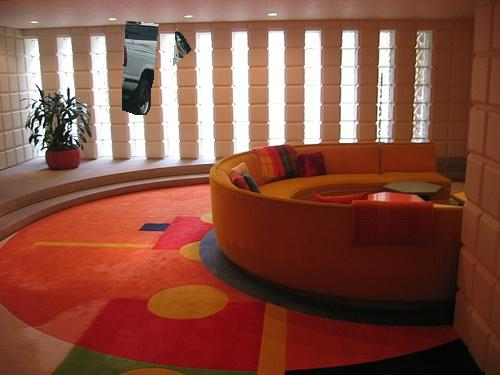tampered: (123, 22, 191, 115)
